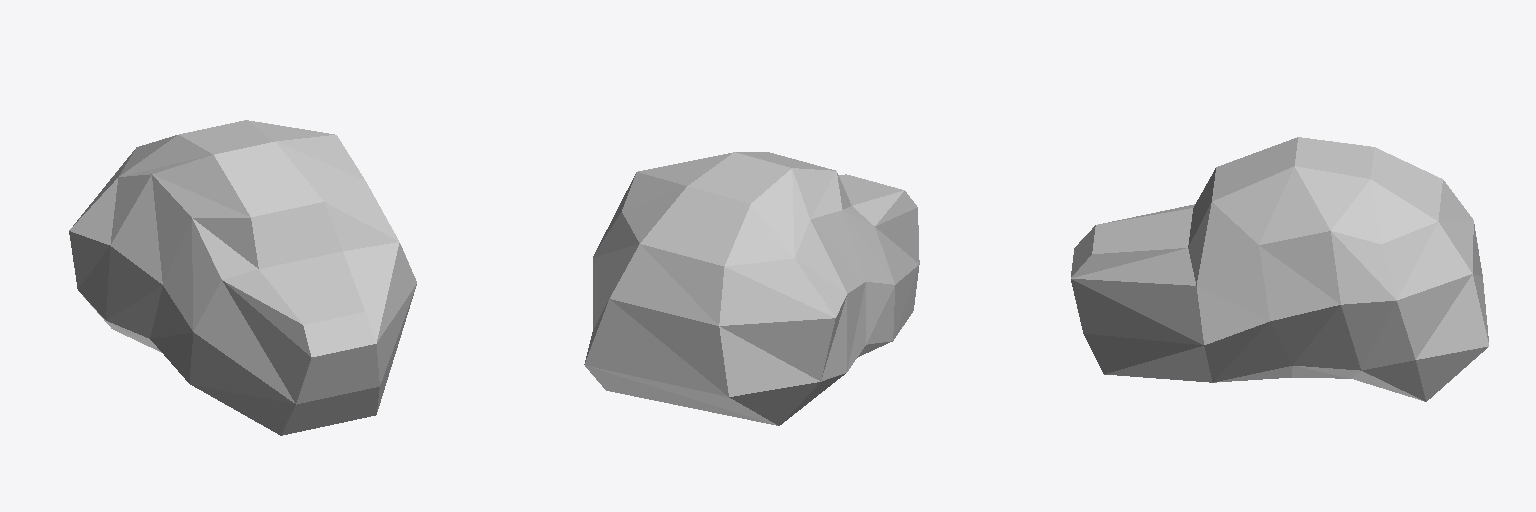
Rendered from buisson_moyen.obj.
3 views of the same model, side by side, from view 1: azimuth 30°, elevation 25°; view 2: azimuth 150°, elevation 25°; view 3: azimuth 270°, elevation 25° (orthographic).
Parts seen in each view (by area): view 1: Bushes:med; view 2: Bushes:med; view 3: Bushes:med.
Part boxes in pixels (x1,y1,x2,y2): Bushes:med: (69,120,416,435); Bushes:med: (584,152,919,425); Bushes:med: (1071,137,1488,401).
Bounding box in the file's own units: 3.53 × 2.72 × 5.03.